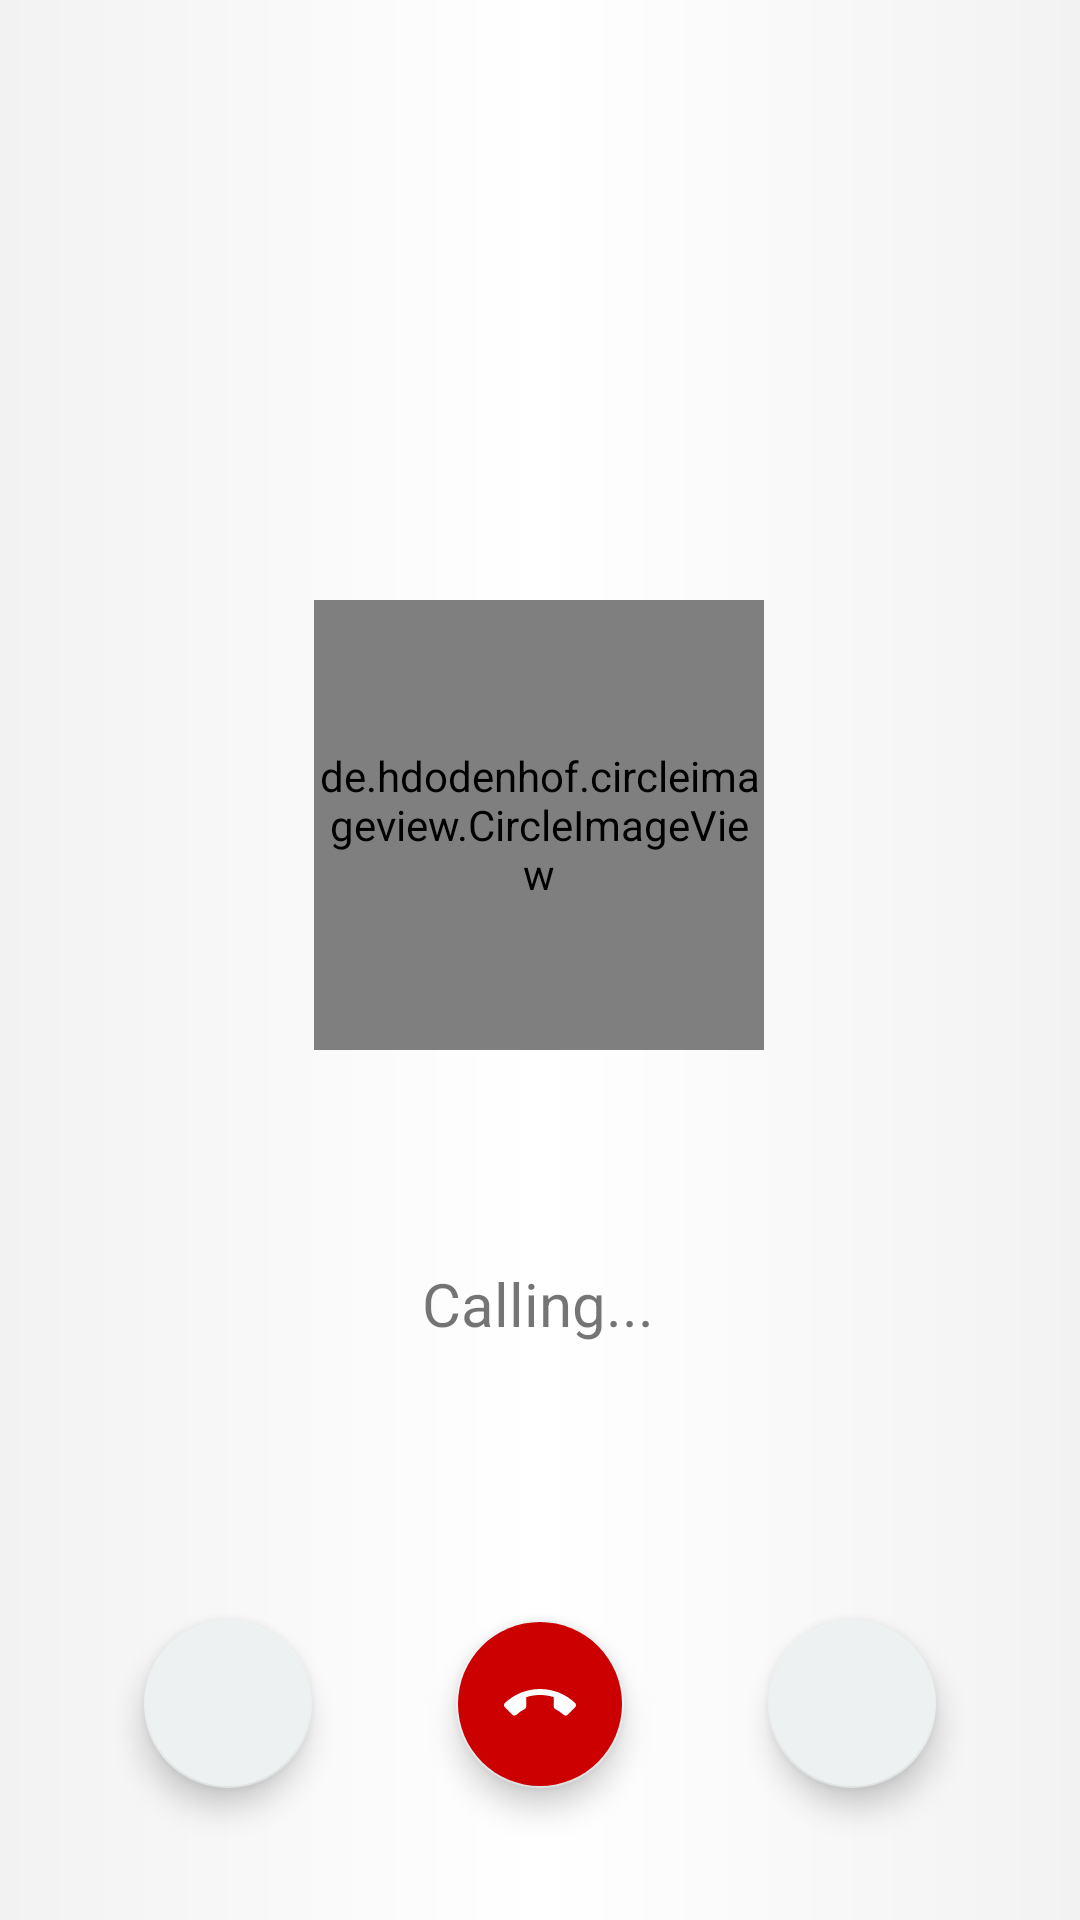

Screen size 1080px×1920px. Icon name, then its box in pixels as bbox(x1, y1, x2, y2):
call end: bbox(456, 1622, 624, 1788)
